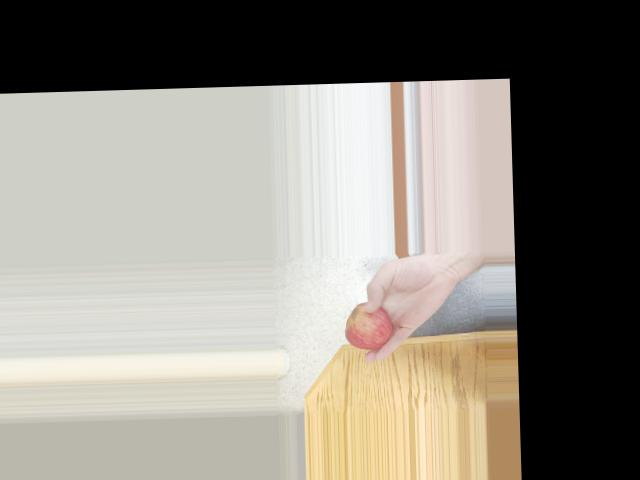apple: (341, 302, 396, 351)
